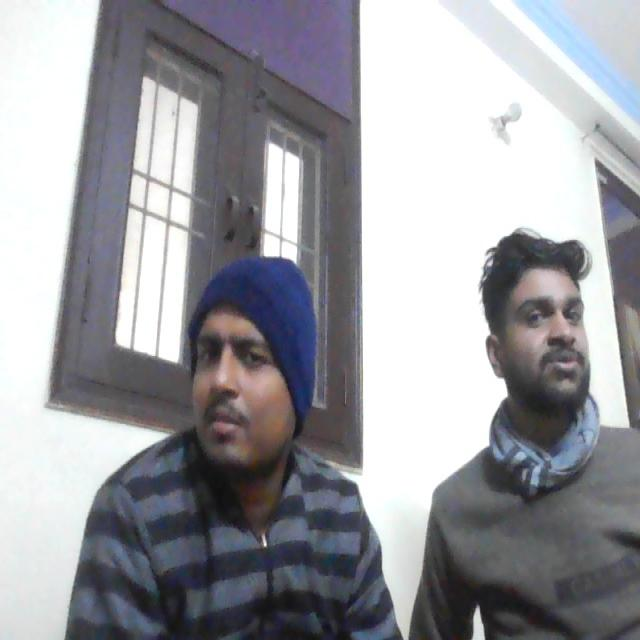real: (182, 248, 308, 485), (496, 212, 601, 411)
